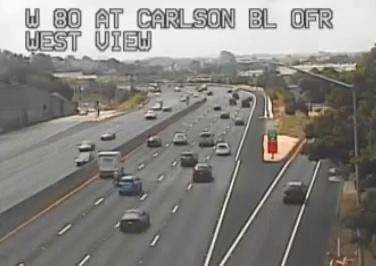car: (119, 210, 149, 231), (282, 181, 306, 204), (117, 176, 141, 194), (193, 163, 211, 179), (180, 152, 197, 167), (215, 143, 231, 155)
small-truck: (96, 151, 123, 178)
